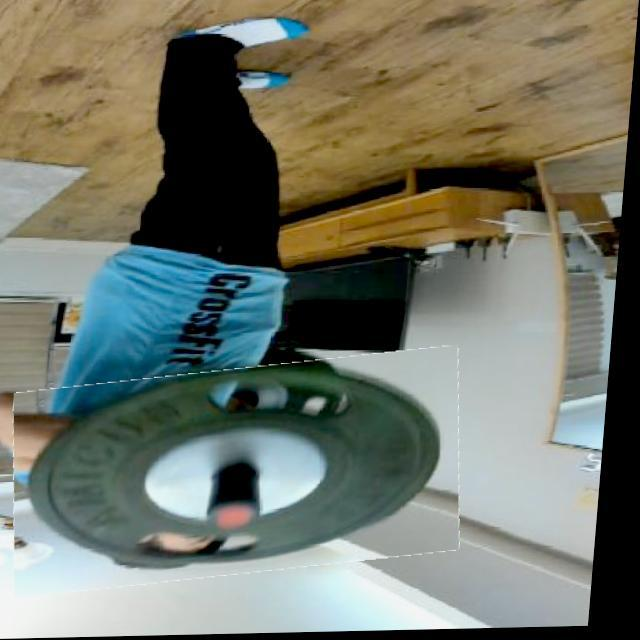barbell: (13, 358, 479, 590)
